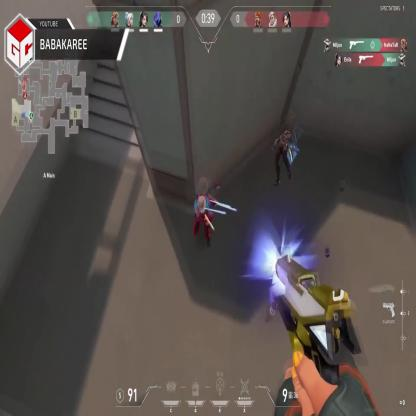enemy: (193, 193, 213, 246)
enemy_head: (197, 194, 206, 213)
